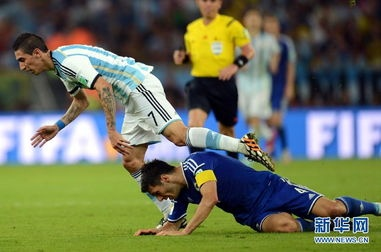falling: (126, 147, 381, 235)
